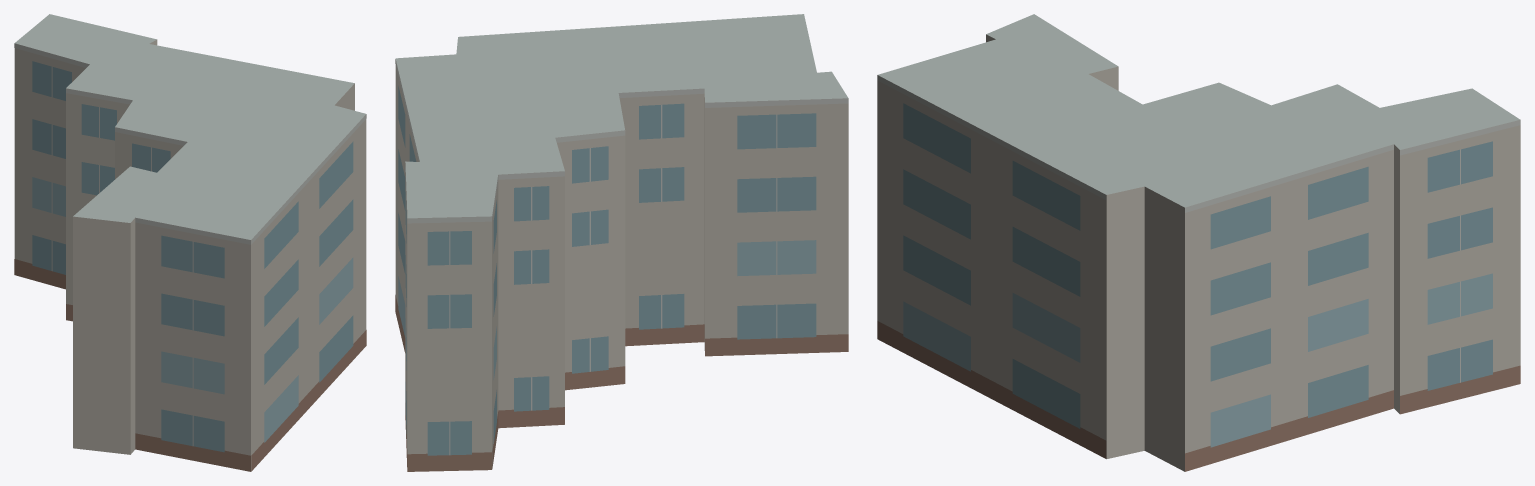
Rendered from survey-upis-32494700.glb.
3 renders of one model, left to right at view 1: azimuth 30°, elevation 25°; view 2: azimuth 150°, elevation 25°; view 3: azimuth 270°, elevation 25°, orthographic. The views are drawn at different scales.
Visible parts, largest first — view 1: survey-upis-32494700.tmp; view 2: survey-upis-32494700.tmp; view 3: survey-upis-32494700.tmp.
Part boxes in pixels (<box>): survey-upis-32494700.tmp: <box>14,14,366,471</box>; survey-upis-32494700.tmp: <box>395,14,848,471</box>; survey-upis-32494700.tmp: <box>877,14,1520,471</box>.
Bounding box in the file's own units: 18.62 × 11.84 × 26.12.
